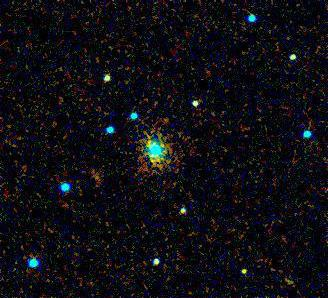star: (230, 257, 260, 287)
